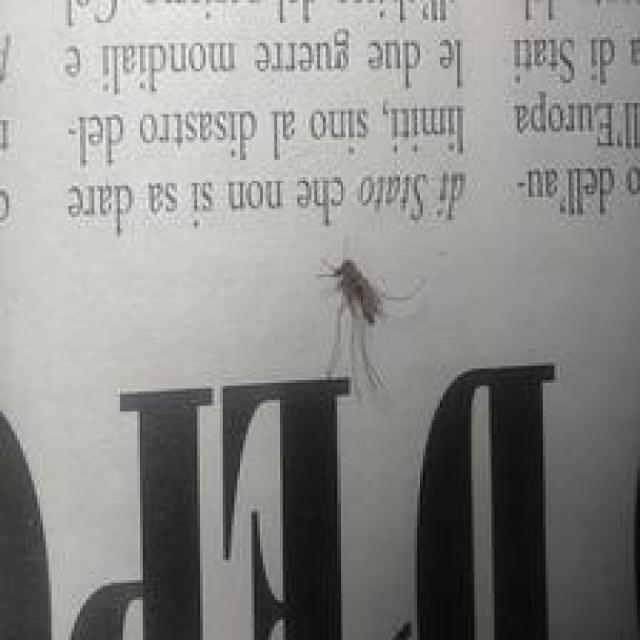Culex: (316, 256, 424, 401)
